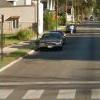Crosswalk: (3, 72, 89, 100)
